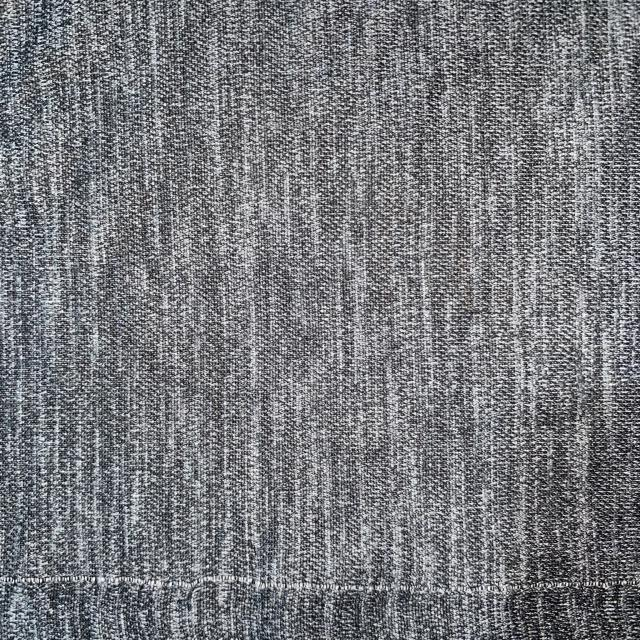Line: (0, 571, 636, 594)
